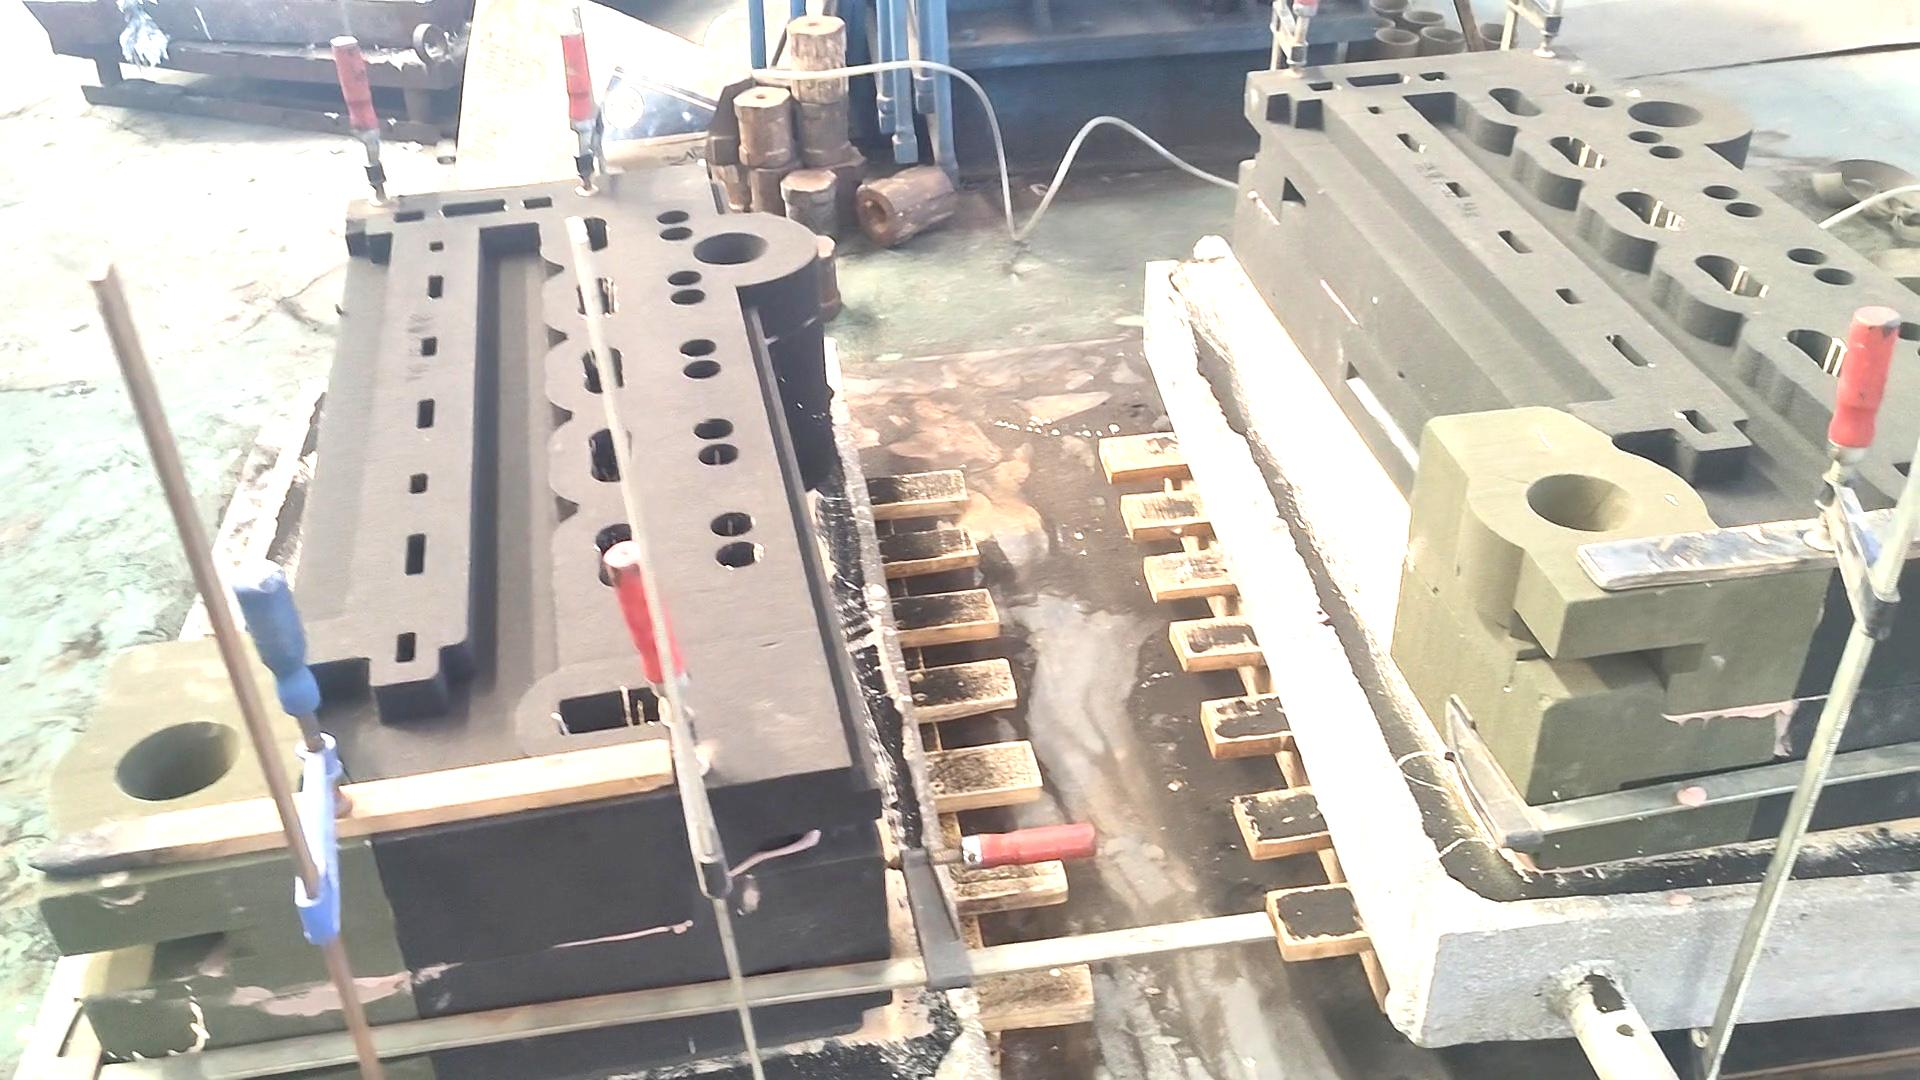pouring hole: (112, 719, 240, 802), (1527, 473, 1636, 531), (694, 231, 769, 265), (1627, 100, 1704, 127), (1476, 22, 1520, 45), (1375, 28, 1420, 45), (1422, 26, 1466, 44), (1352, 15, 1395, 30), (1400, 9, 1445, 24), (1369, 1, 1412, 12)
